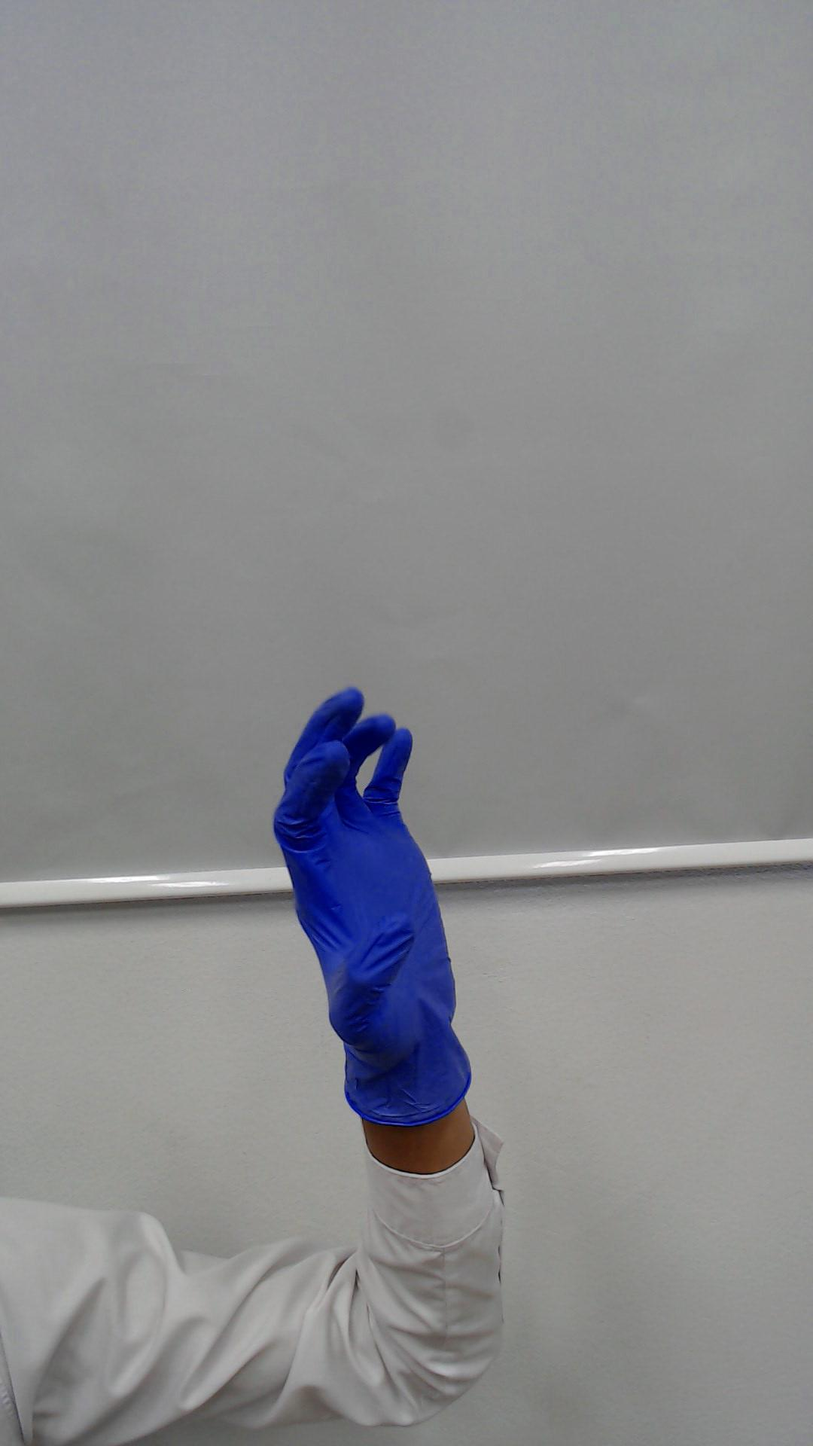gloves: (227, 656, 468, 1055)
